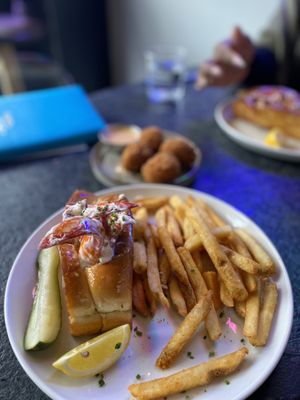pizza: (142, 44, 189, 115)
sushi: (88, 123, 204, 187)
